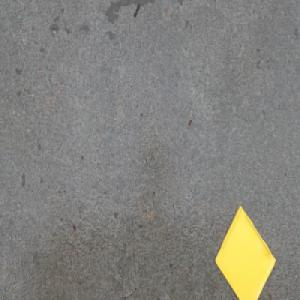PlasticPart: (214, 204, 276, 300)
